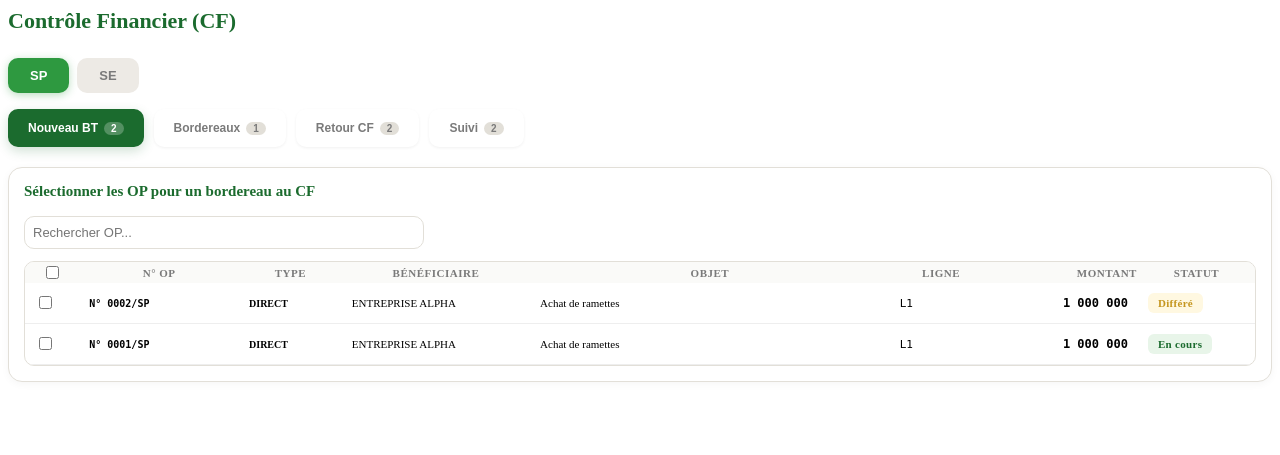
Test: Circuit CF — générer un bordereau › le total des OP cochés est annoncé avant de générer
Click the checkbox next to "N° 0001/SP".
click(46, 344)  # box [39,337,52,350]
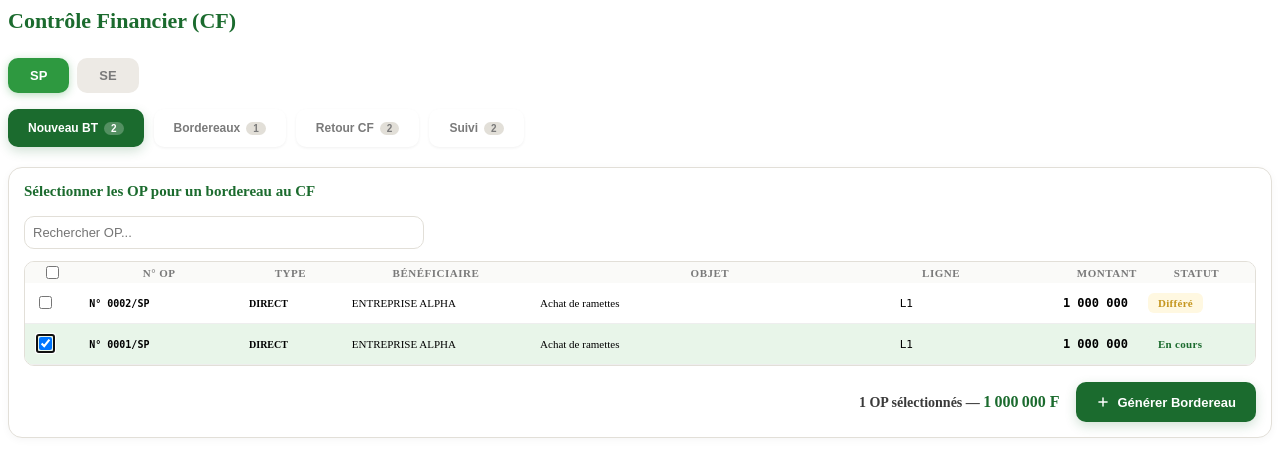
Click the checkbox next to "N° 0002/SP".
click(46, 302)  # box [39,296,52,309]
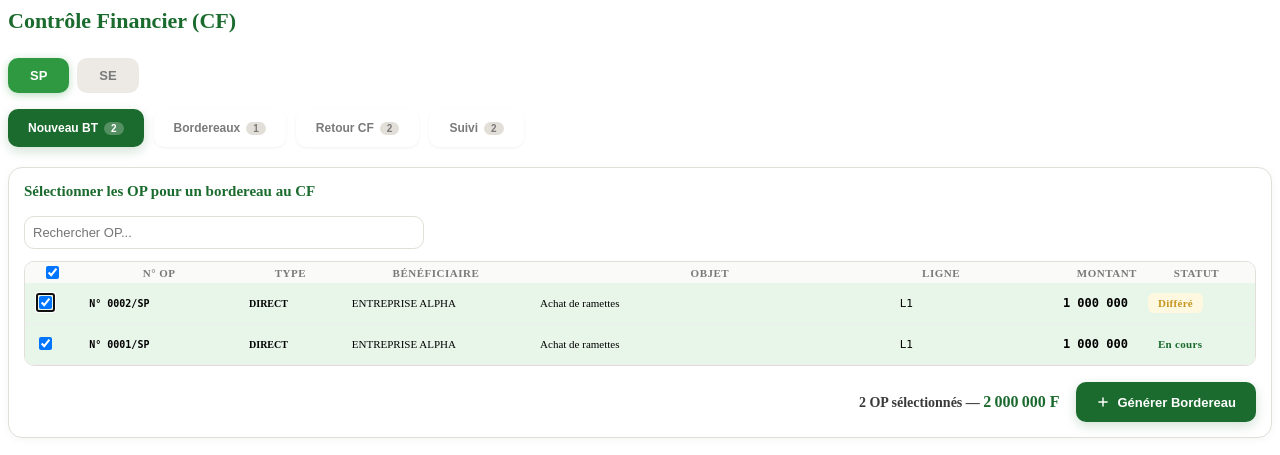
Expected: the text "2 OP sélectionnés — 2 000 000 F" is shown, [859,393,1060,411]
